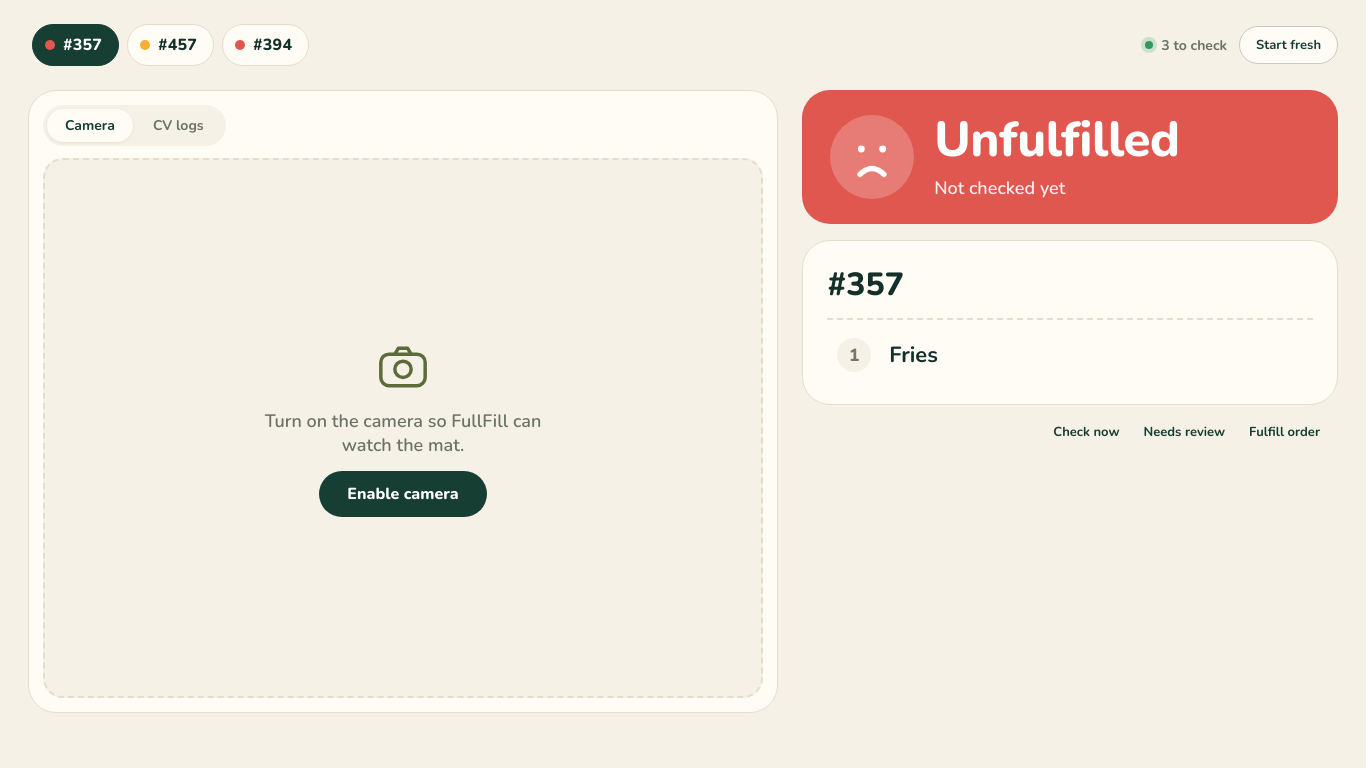
Test: keeps the current ticket on arrivals or orange status and advances on another screen's fulfillment
What coordinates should you click on to do the following:
click the button "Needs review"
I would click on:
 (1184, 432)
Its box is top-left (1134, 417), bottom-right (1235, 447).
Wait 2000 ms
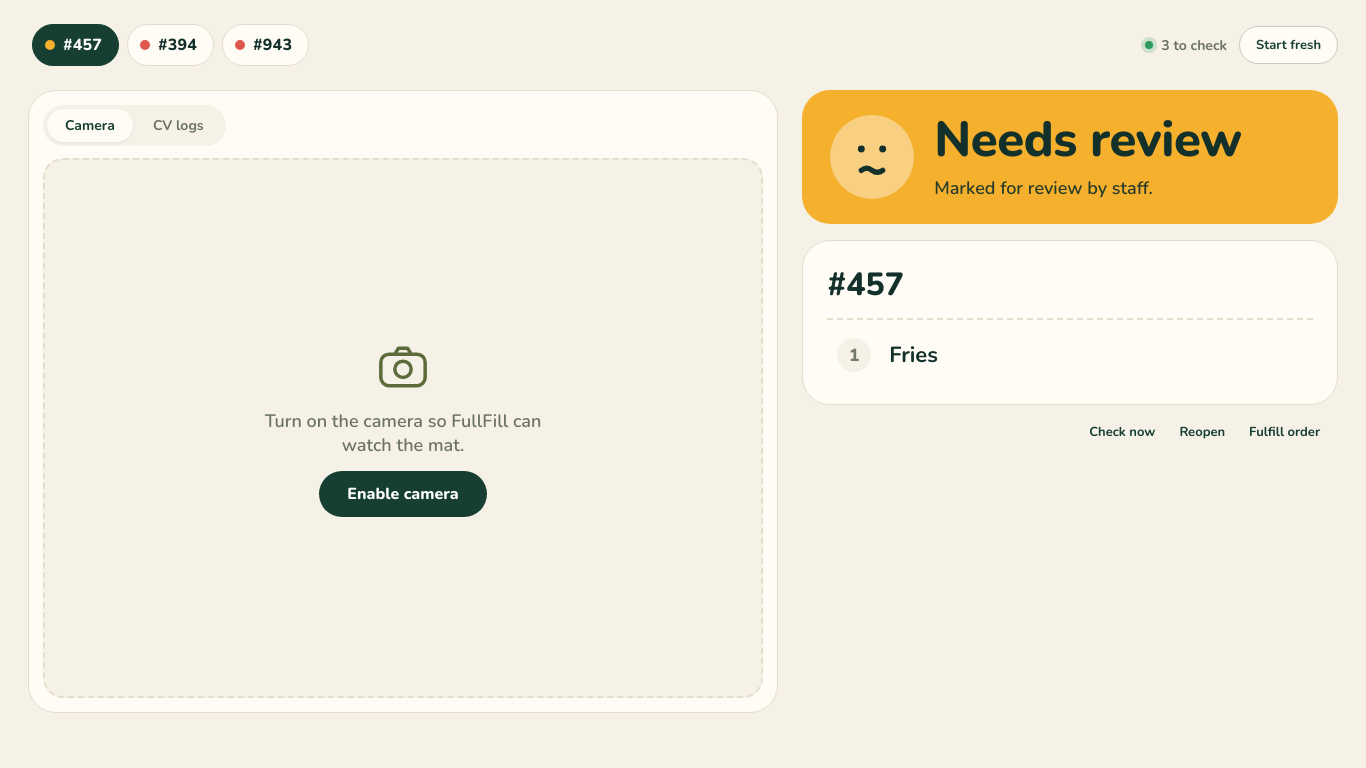
Now the element with class "tone-amber" that starts with "Fries" is shown, box top-left (802, 90), bottom-right (1338, 405)
